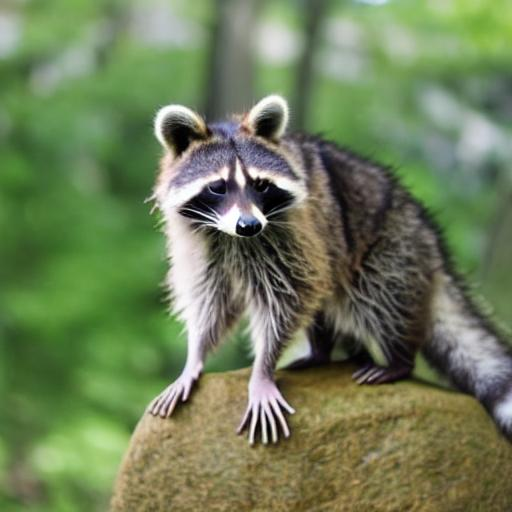raccoon: (142, 88, 512, 410)
